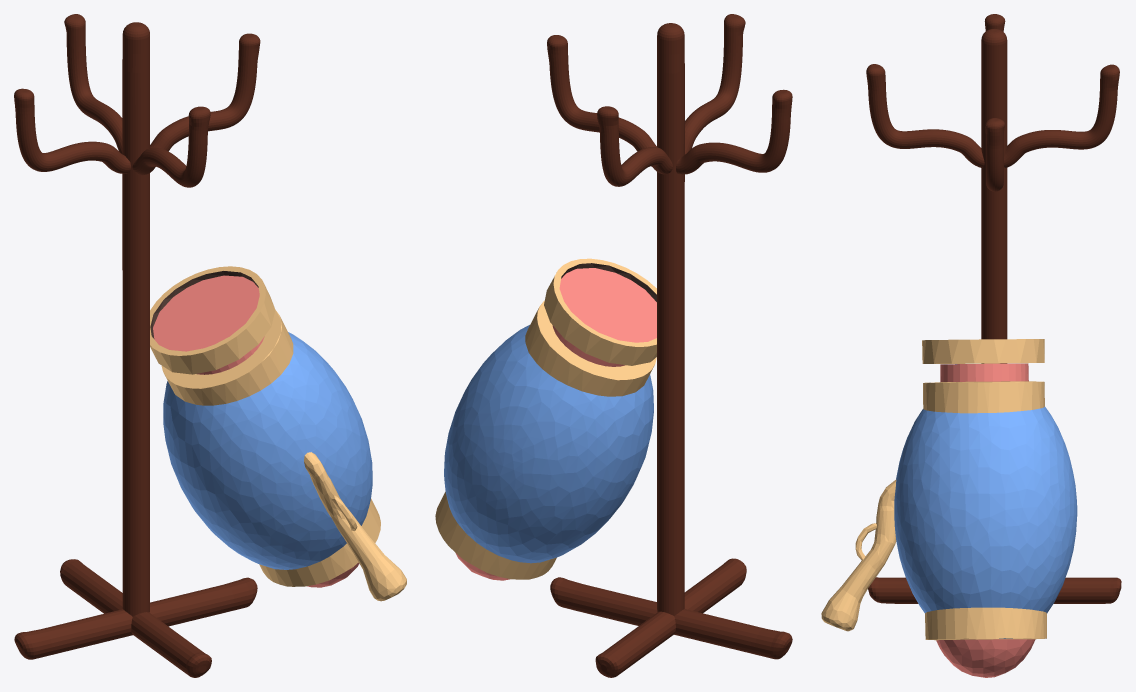
The model's file is hanger_launcher.fbx.
3 renders of one model, left to right at view 1: azimuth 30°, elevation 25°; view 2: azimuth 150°, elevation 25°; view 3: azimuth 270°, elevation 25°, orthographic. The views are drawn at different scales.
Parts seen in each view (by area): view 1: tide pod gun1; view 2: tide pod gun1; view 3: tide pod gun1.
Boxes of the visible parts, box(x1,y1,x2,y2) form: tide pod gun1: box(14, 14, 406, 677); tide pod gun1: box(435, 14, 792, 677); tide pod gun1: box(821, 14, 1121, 677).
Bounding box in the file's own units: 195 × 323 × 153.
